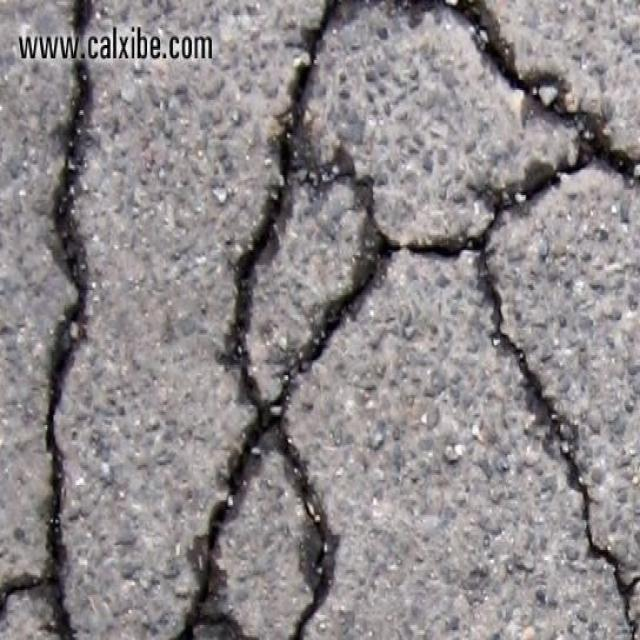crack: (174, 0, 638, 638), (40, 4, 102, 570), (1, 572, 77, 638)
